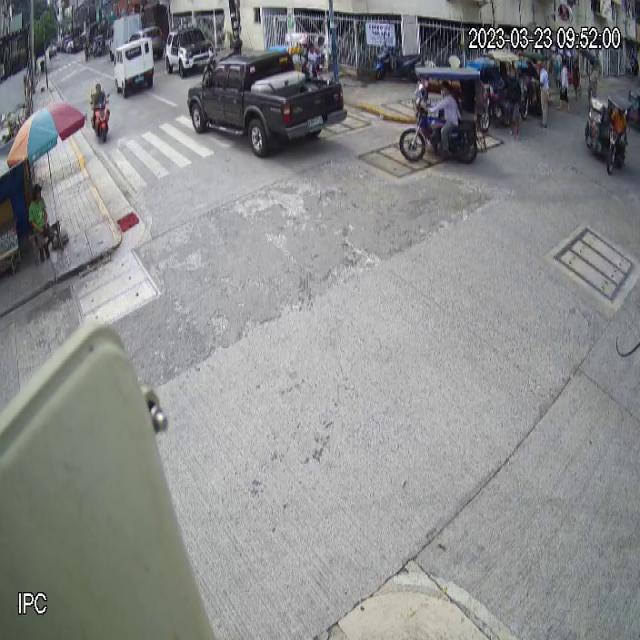Car: (186, 48, 348, 158)
Tricycle: (399, 66, 488, 162)
